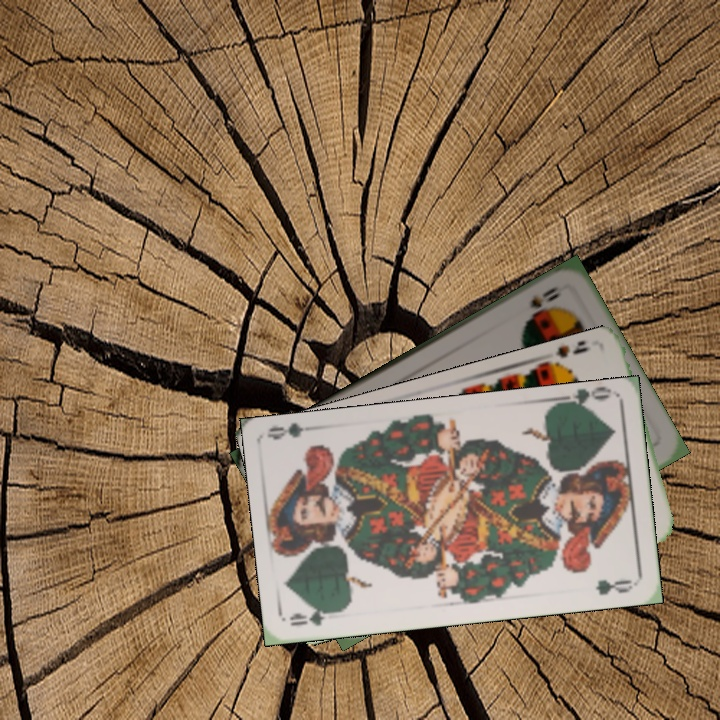GO: (555, 386, 614, 415), (287, 605, 345, 629)
S9: (542, 338, 594, 375)
SO: (526, 282, 566, 311)
